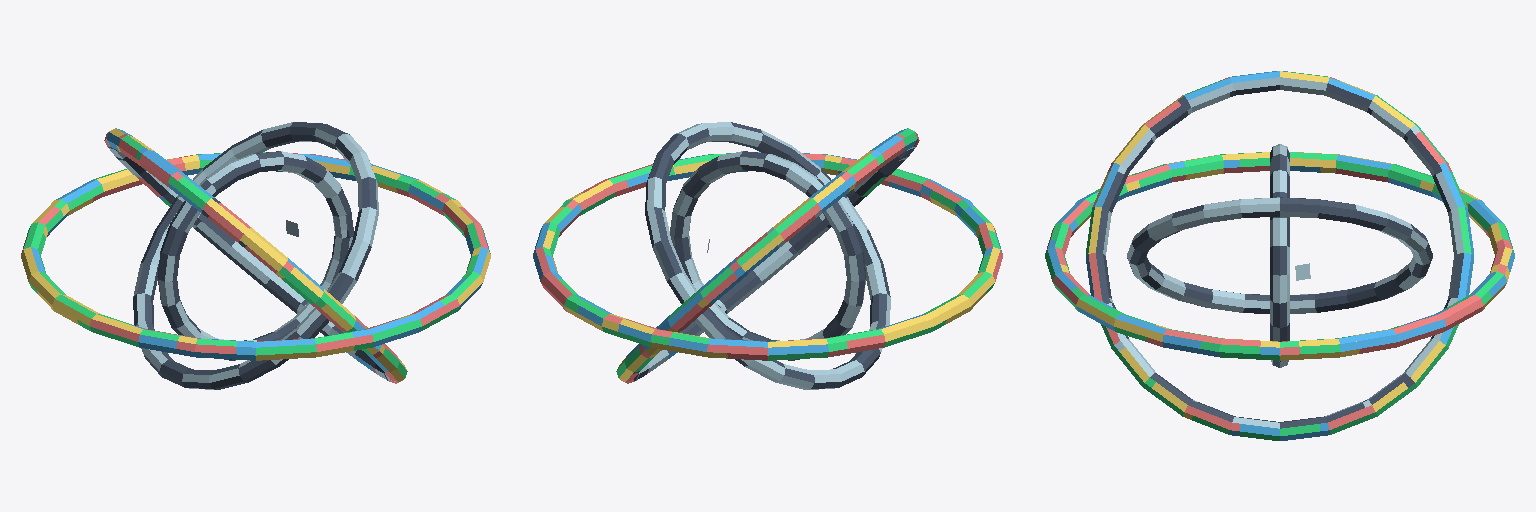
3 renders of one model, left to right at view 1: azimuth 30°, elevation 25°; view 2: azimuth 150°, elevation 25°; view 3: azimuth 270°, elevation 25°, orthographic.
Visible parts, largest first — view 1: torus; view 2: torus; view 3: torus.
Part boxes in pixels (x1,y1,x2,y2): torus: (21,122,490,389); torus: (533,122,1002,389); torus: (1045,71,1514,440).
Bounding box in the file's own units: 0.7188 × 0.4459 × 0.7188.
Materials: 1 (1 with a texture image).